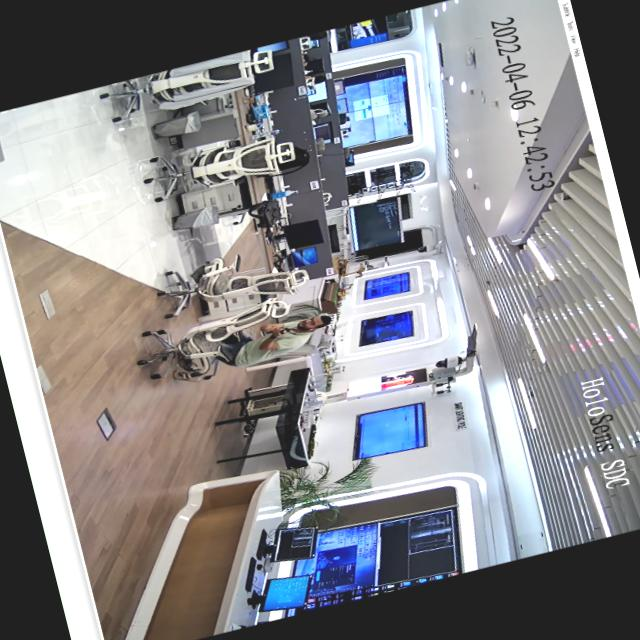long weapon: (260, 316, 300, 344)
